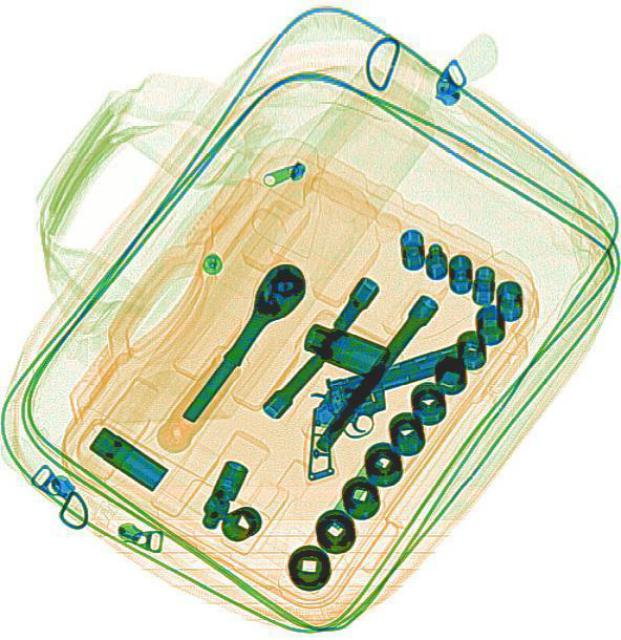Gun: (280, 338, 499, 480)
